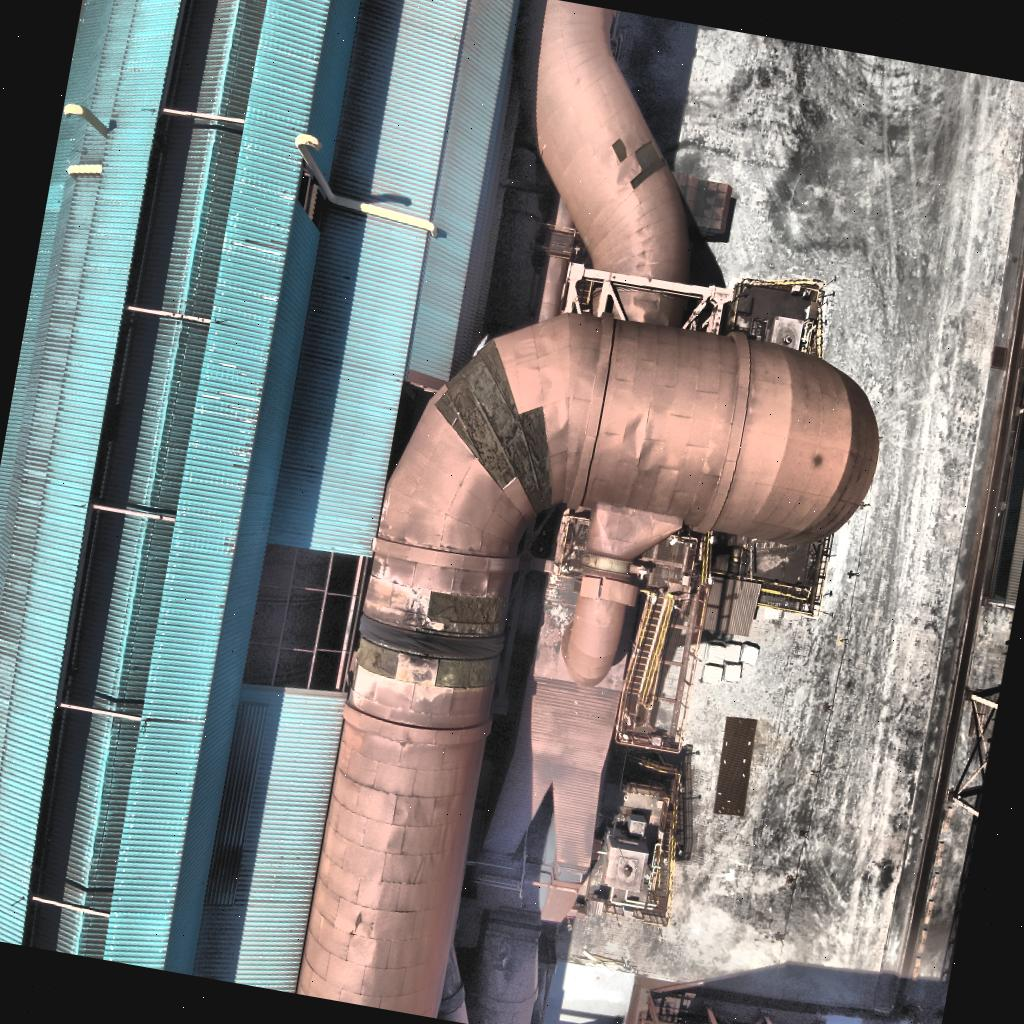Failures: (418, 332, 579, 522), (342, 562, 518, 720), (600, 110, 677, 200), (556, 558, 649, 626)
